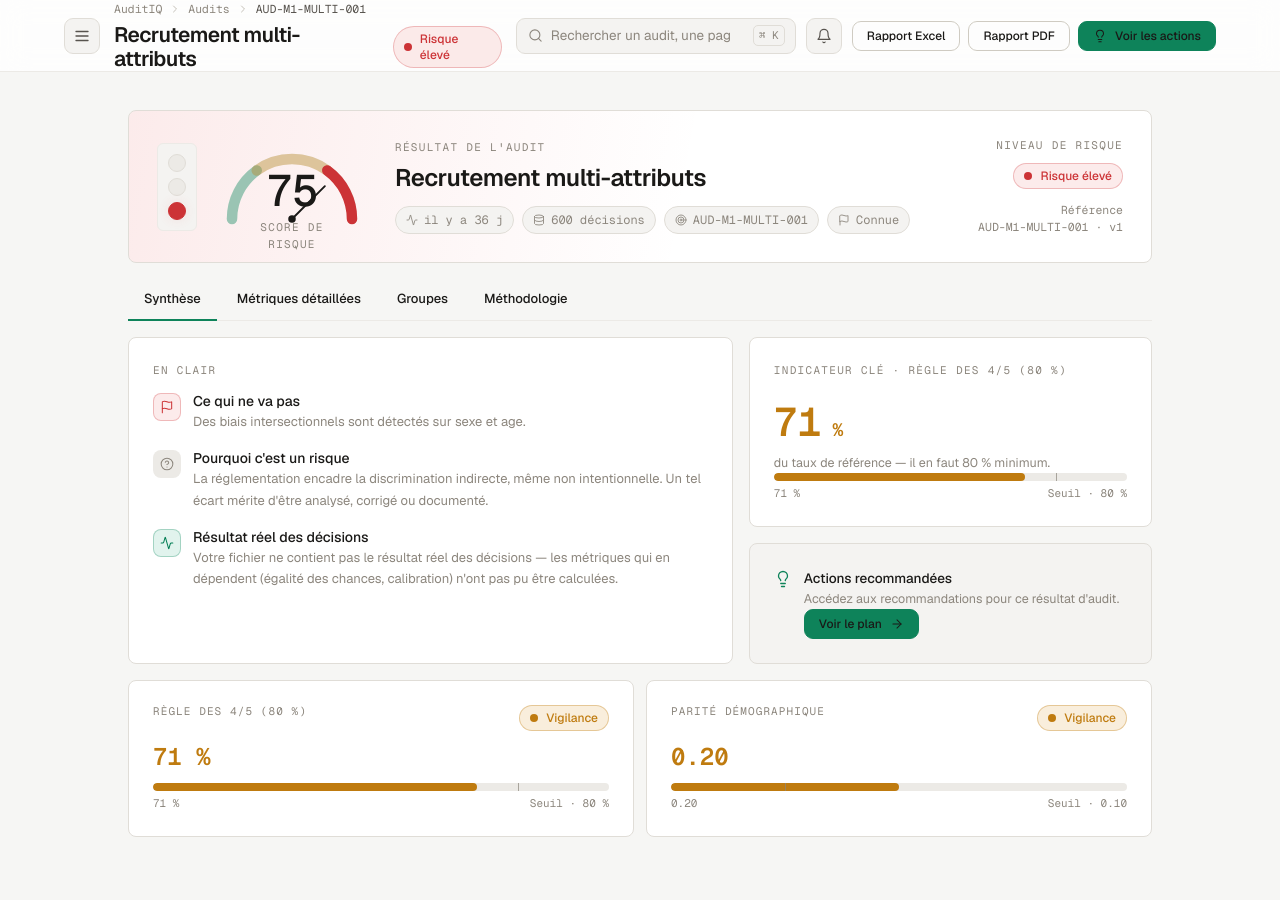
Test: M1 multi-attribute result page › renders pairwise section titled "sexe × age"
The image size is (1280, 900).
Click the tab "Groupes": [422, 300] box x1=381 y1=279 x2=464 y2=321
(page scrolled)
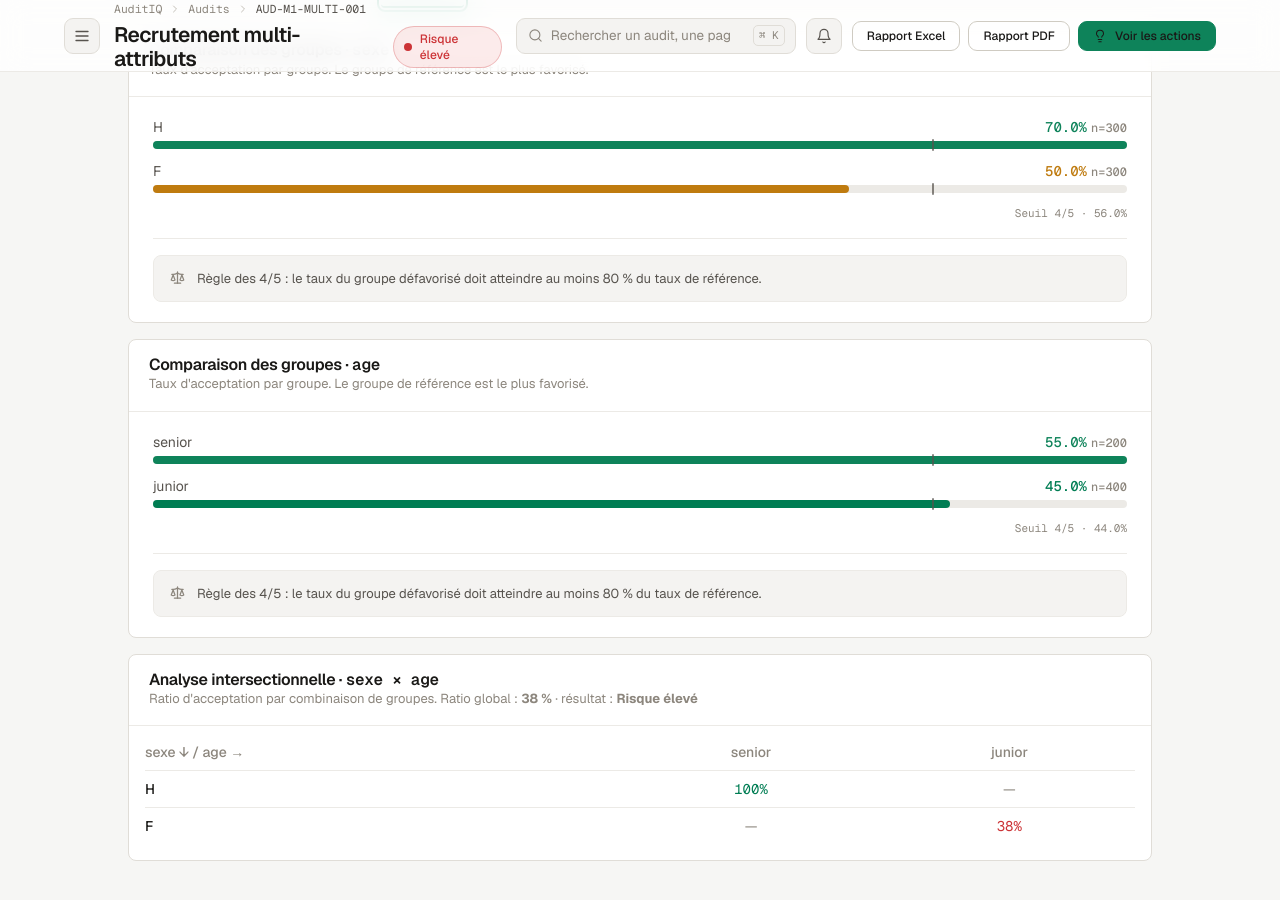
expect the text "sexe × age" is shown: met, box x1=346 y1=669 x2=439 y2=690
